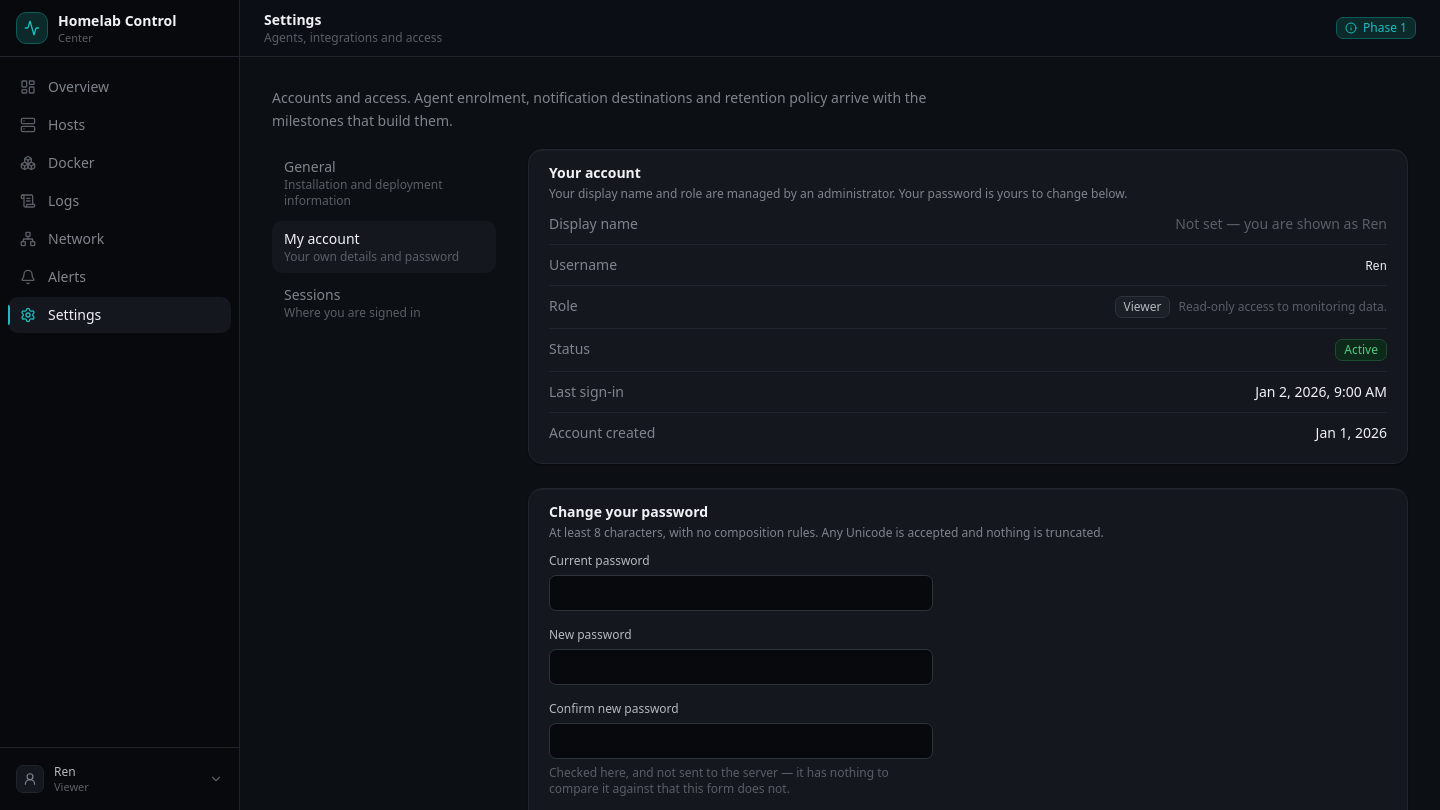
Test: changing a password › changes the password and reports how many sessions ended
The image size is (1440, 810).
Expected: the heading "Your account" is shown, [549,162,641,182]
Type "correct horse battery staple" into the password field labelled "Current password" at (741, 592), box [549,574,933,610]
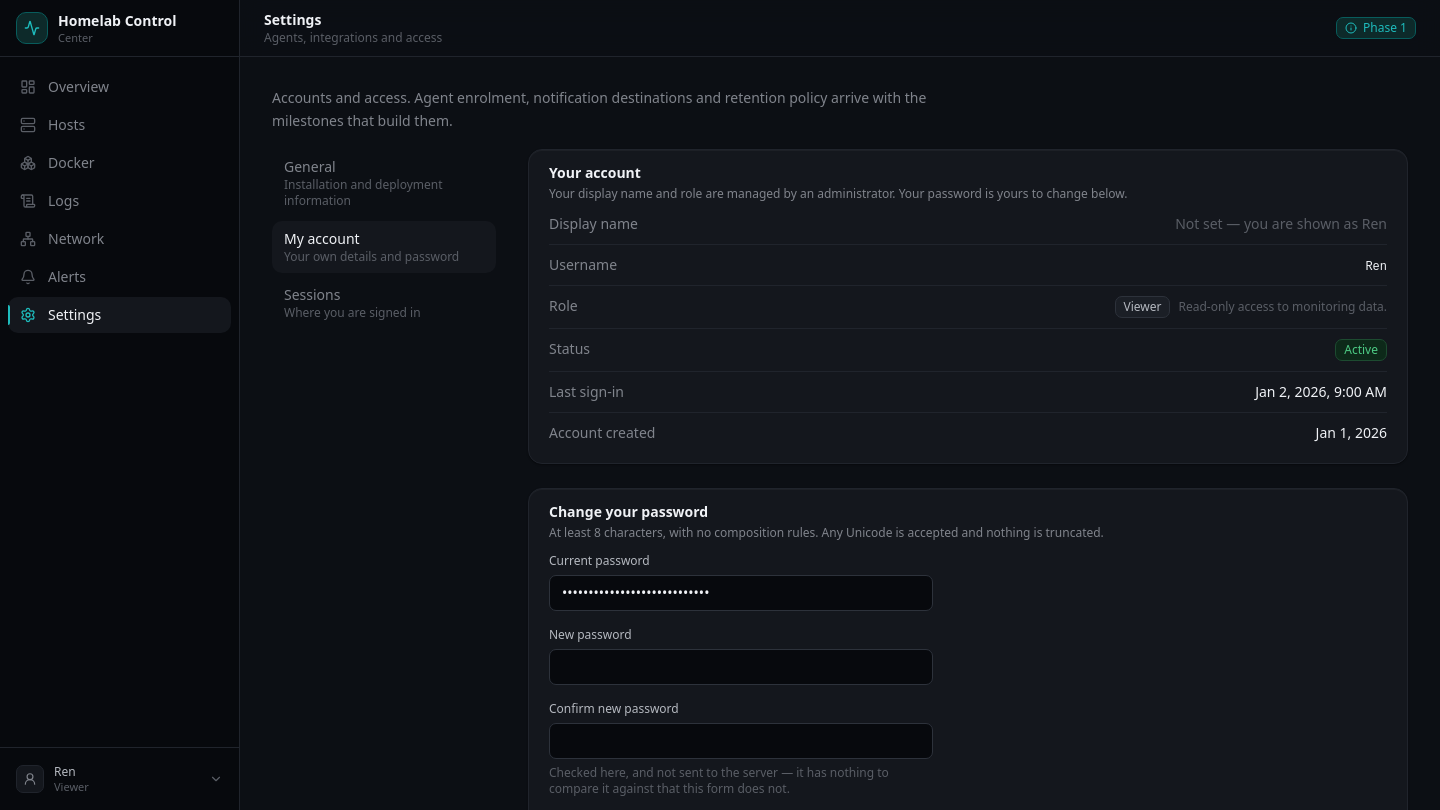
Type "a different sufficiently long passphrase" into the password field labelled "New password" at (741, 666), box [549,648,933,684]
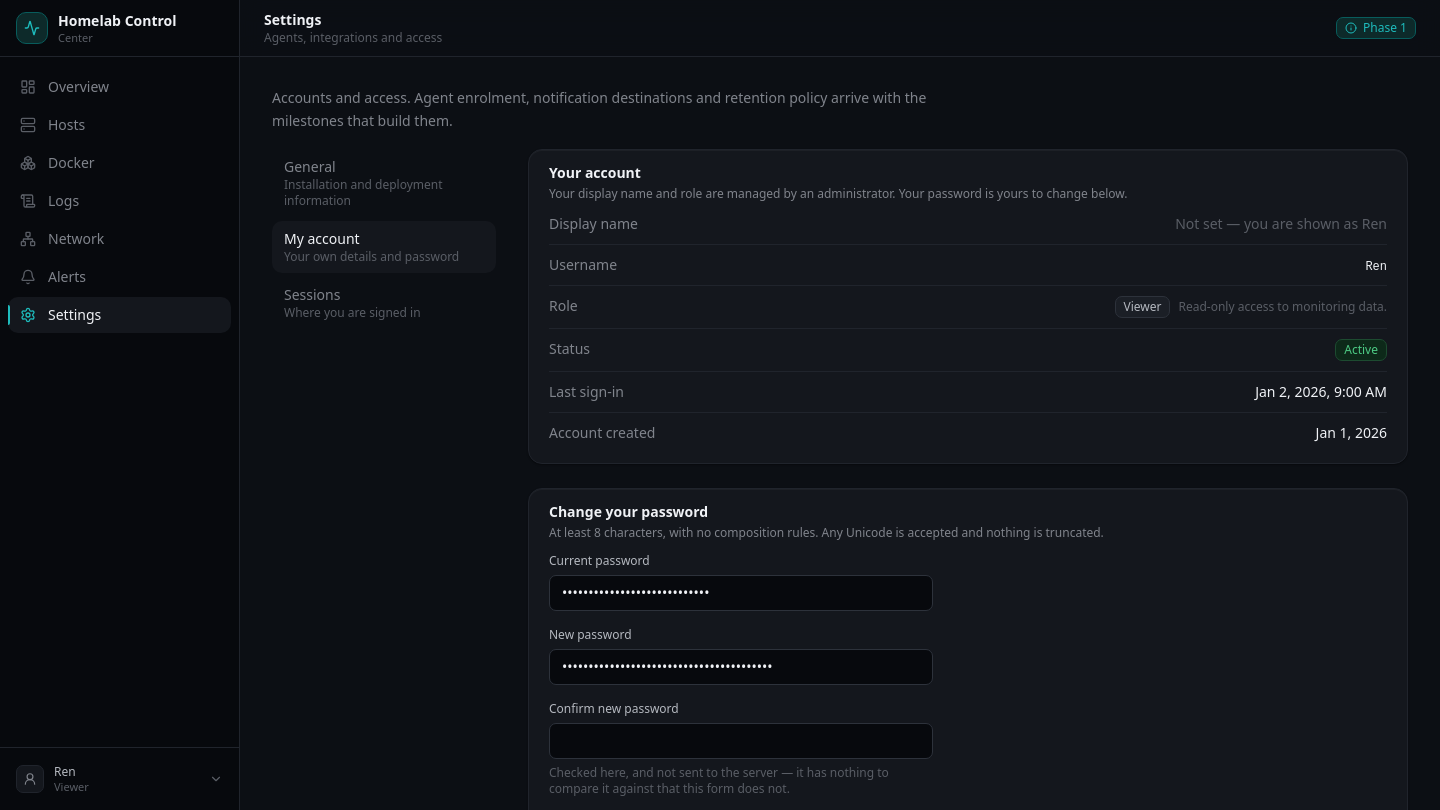
Type "a different sufficiently long passphrase" into the password field labelled "Confirm new password" at (741, 740), box [549,722,933,758]
(page scrolled)
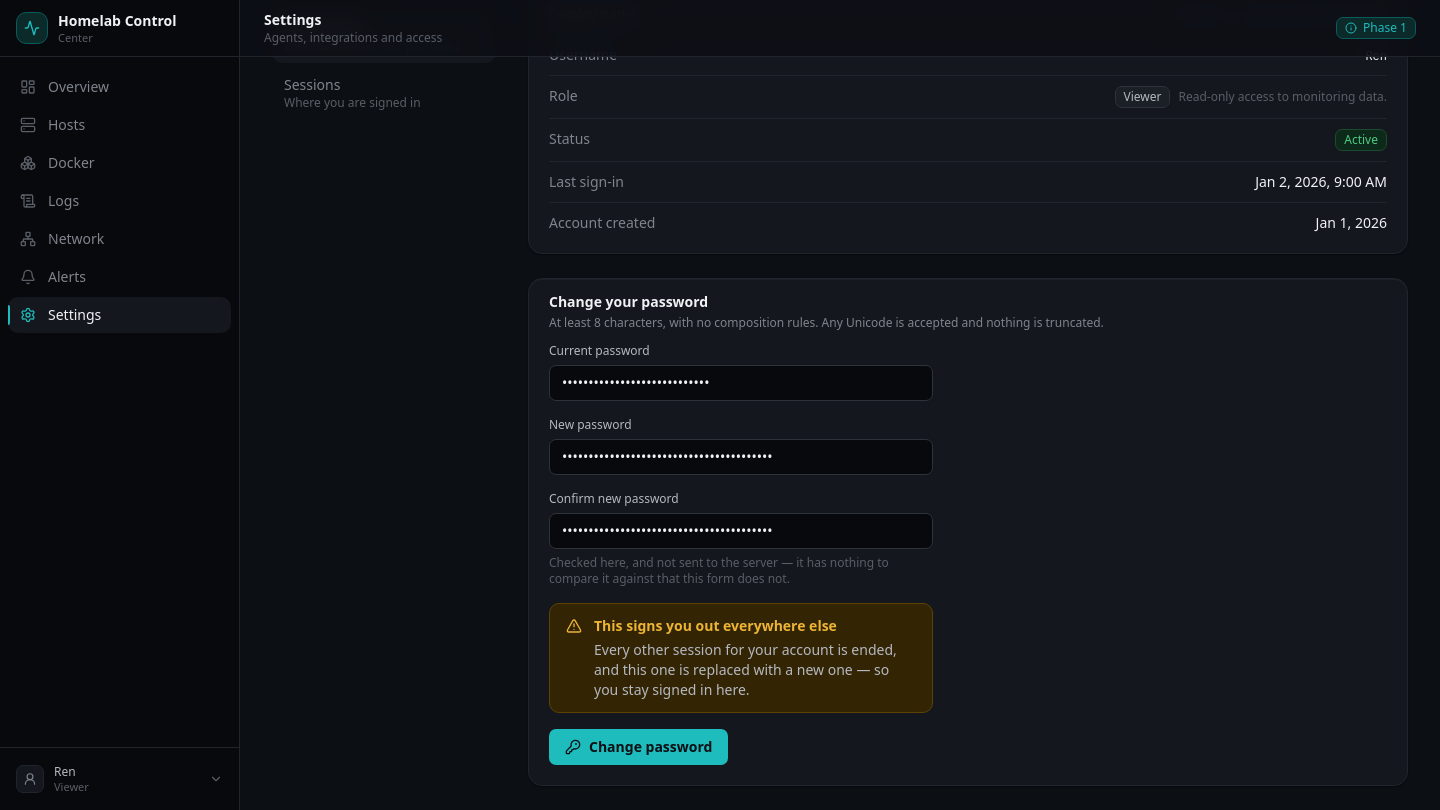
Click the button "Change password" at (639, 746), box [549,728,728,764]
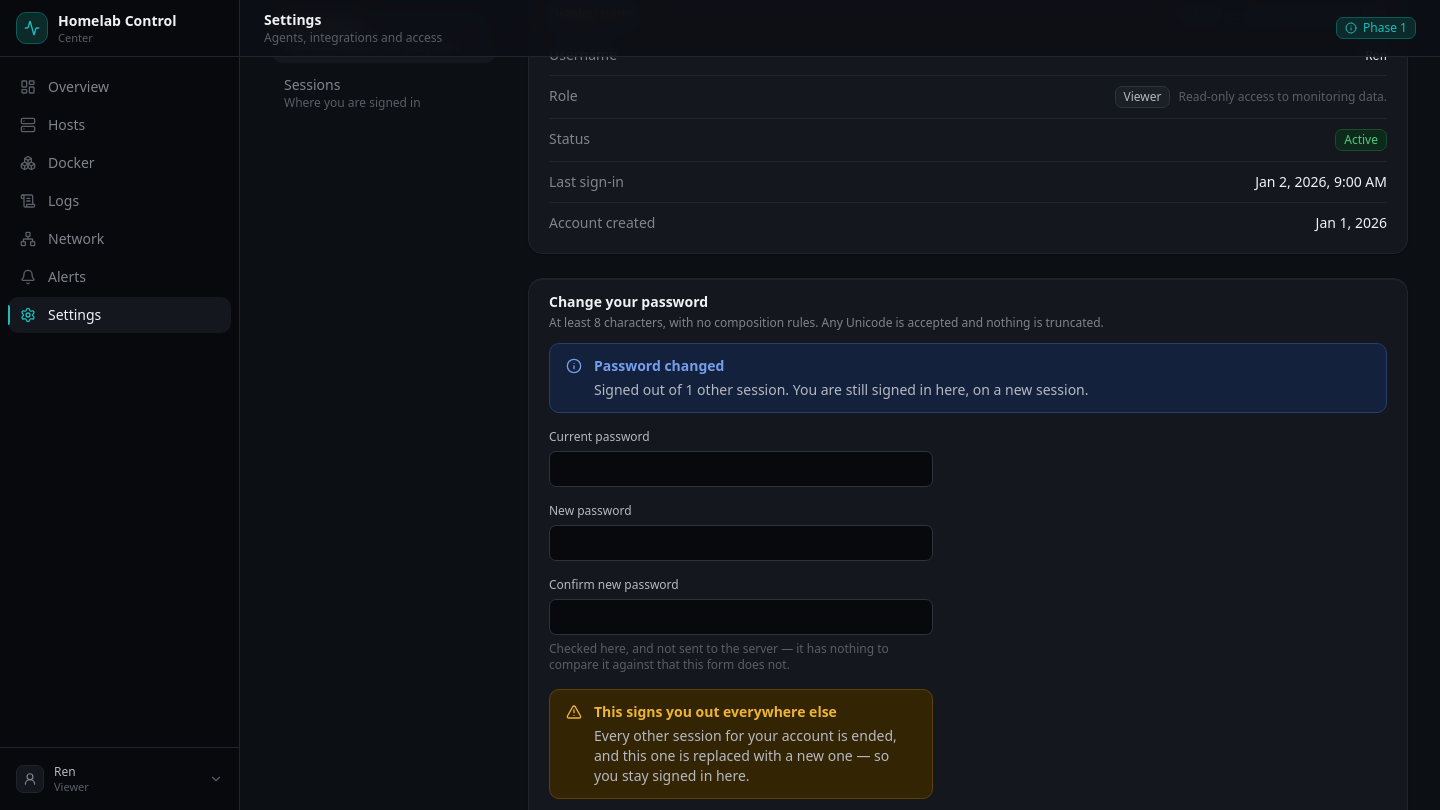
Now the text "Password changed" is shown, box [594,356,724,374]
Now the text "Signed out of 1 other session" is shown, box [594,380,1088,398]
Now the text "still signed in here, on a new session" is shown, box [785,380,1089,398]
